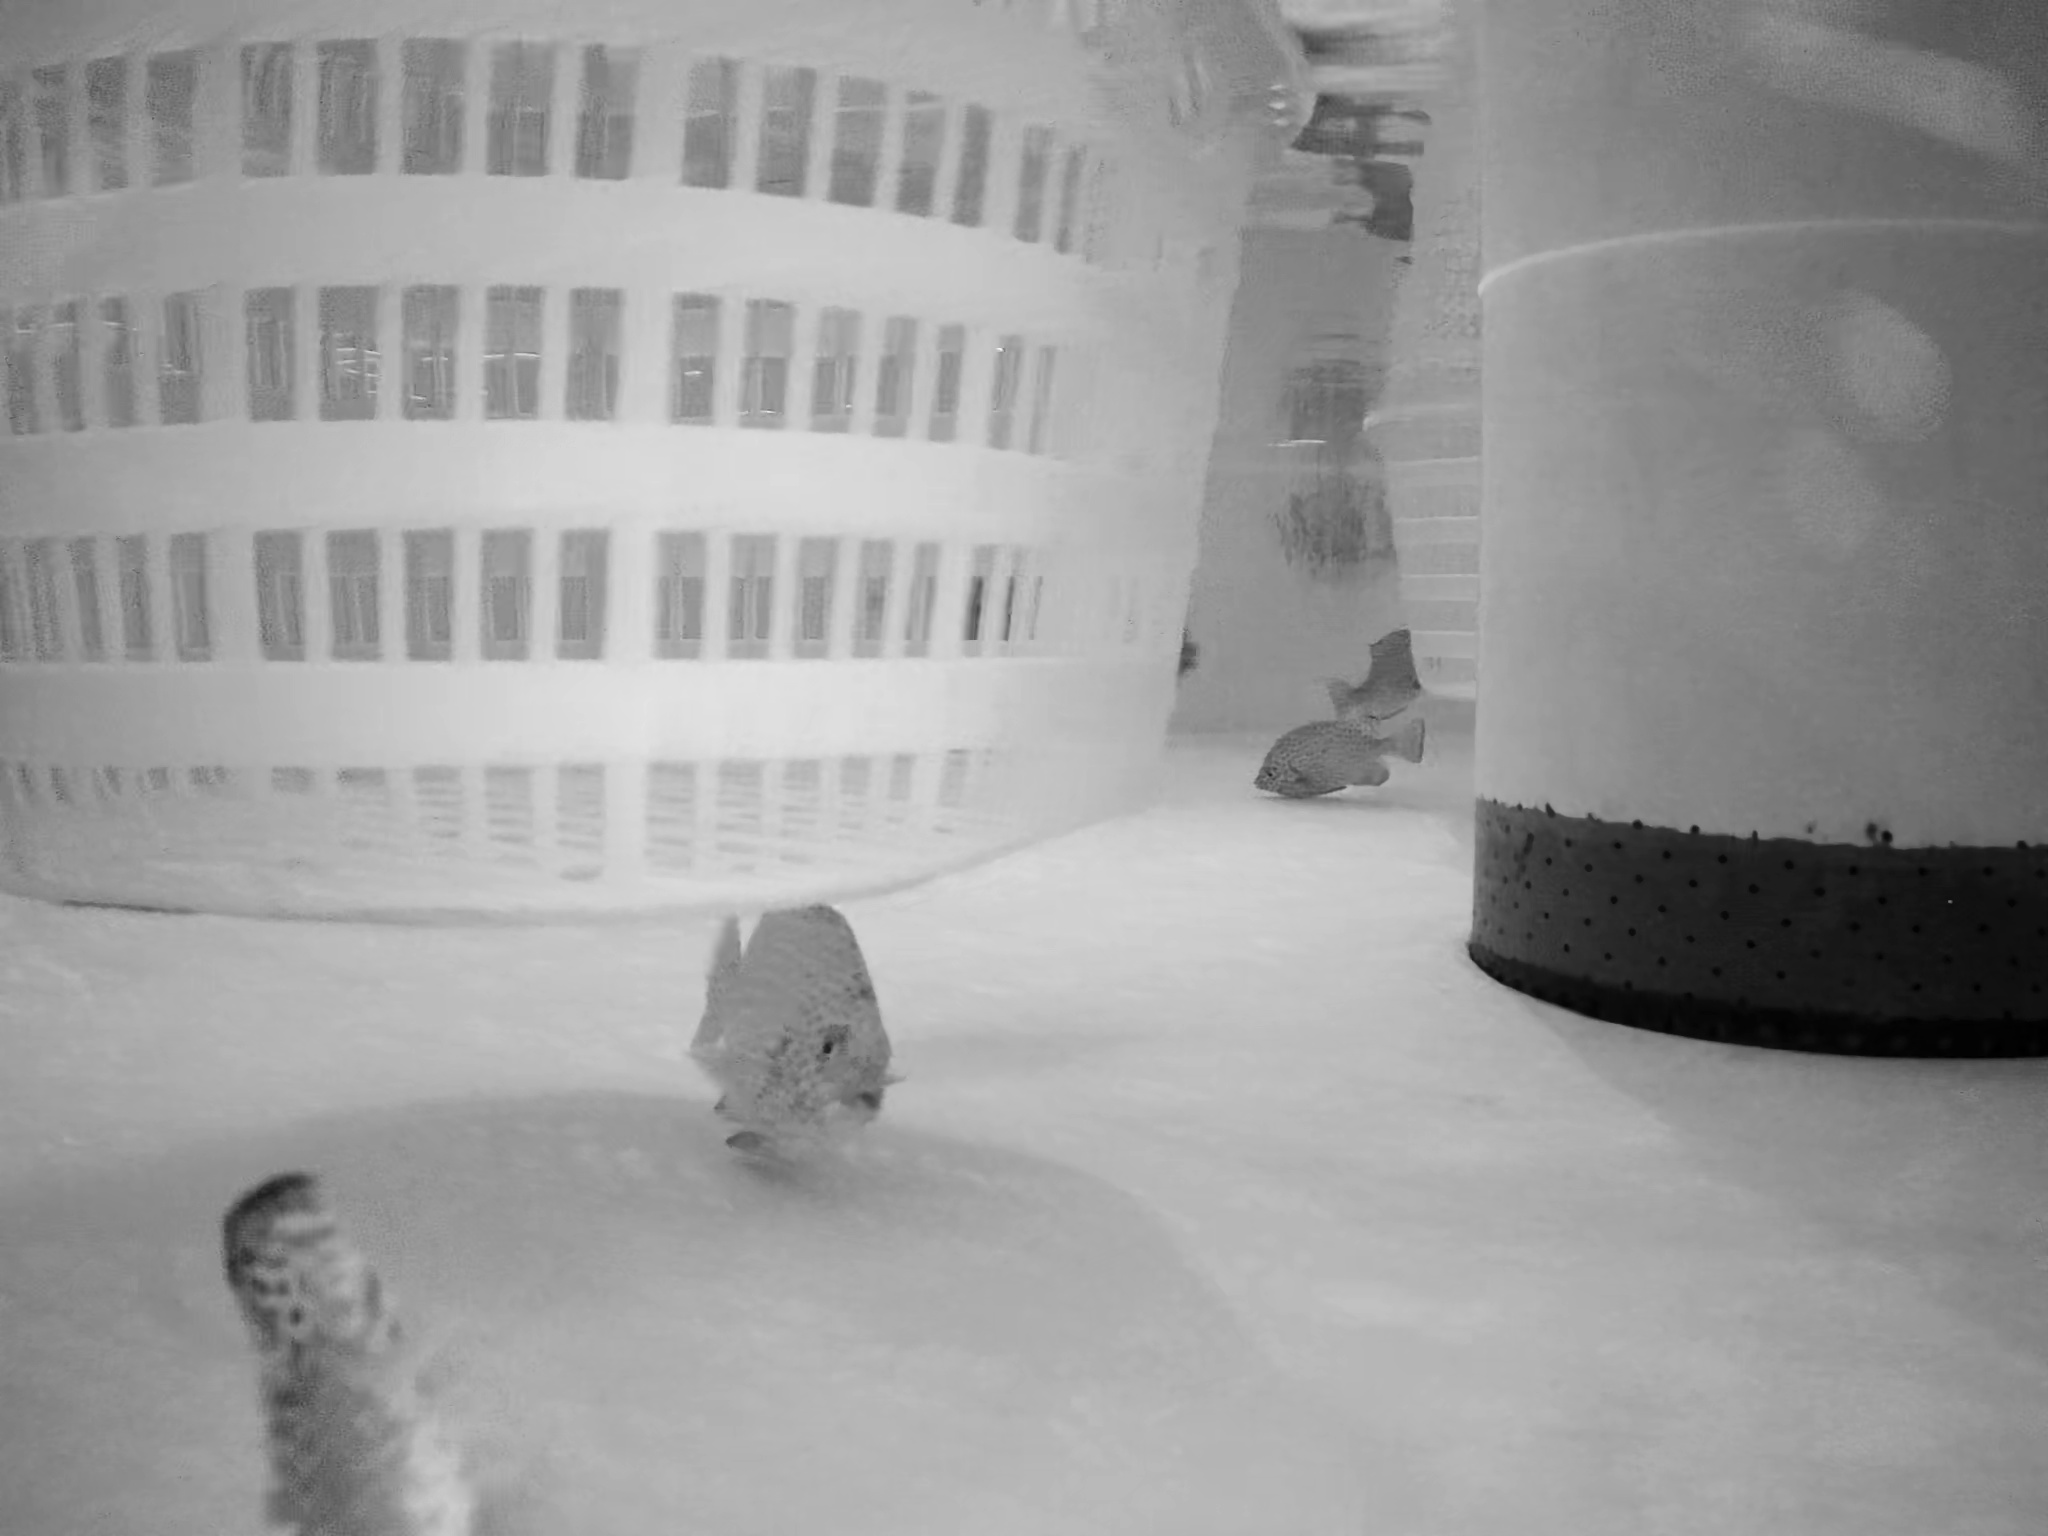fish: (211, 1163, 479, 1536), (701, 884, 897, 1184), (959, 570, 1214, 679), (1253, 710, 1432, 800), (1340, 605, 1427, 716)
